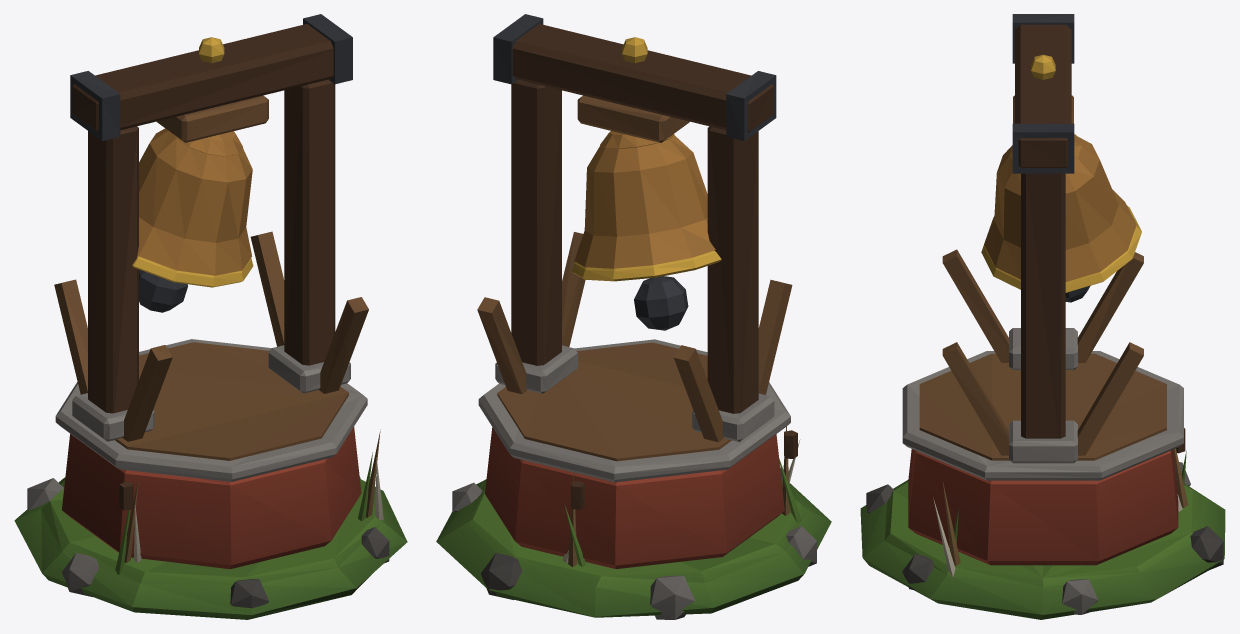
File: clapper_tower.glb
The picture shows the model from 3 angles, left to right: view 1: azimuth 30°, elevation 25°; view 2: azimuth 150°, elevation 25°; view 3: azimuth 270°, elevation 25°; orthographic projection. The views are drawn at different scales.
Parts seen in each view (by area): view 1: clapper_tower; view 2: clapper_tower; view 3: clapper_tower.
Part boxes in pixels (x1,y1,x2,y2): clapper_tower: (14, 14, 407, 619); clapper_tower: (436, 14, 831, 619); clapper_tower: (860, 14, 1225, 619).
Bounding box in the file's own units: 0.9387 × 1.34 × 0.899.
